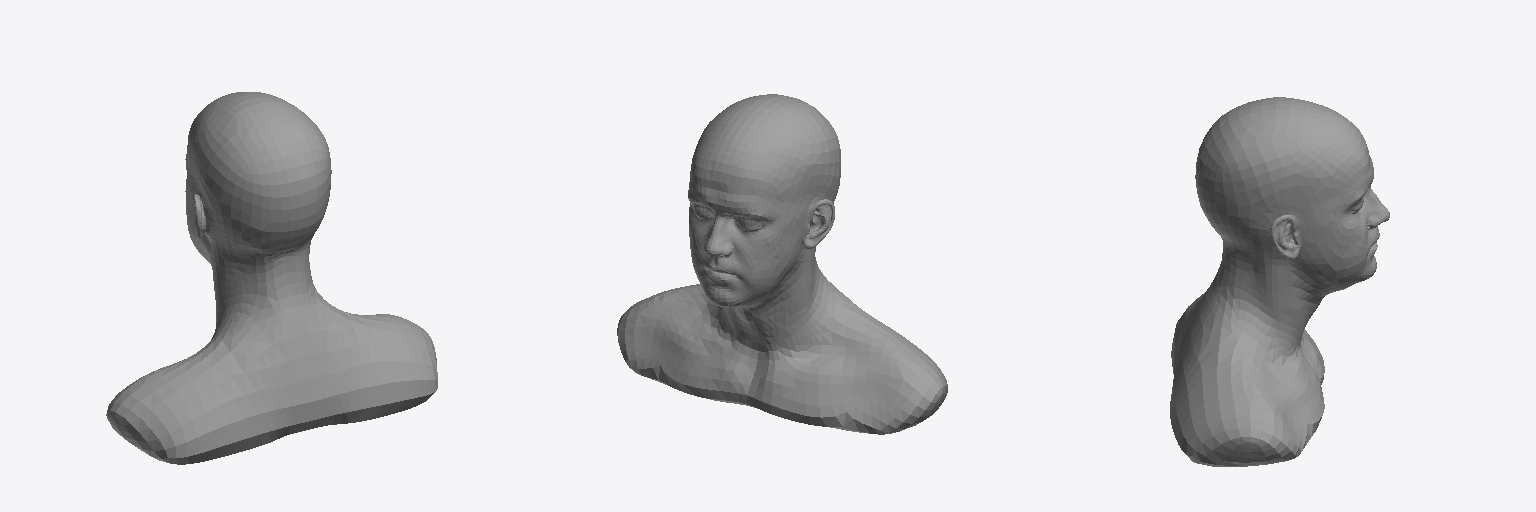
The model's file is lee-perry-smith-head.obj.
3 views of the same model, side by side, from view 1: azimuth 30°, elevation 25°; view 2: azimuth 150°, elevation 25°; view 3: azimuth 270°, elevation 25° (orthographic).
Parts seen in each view (by area): view 1: Group28; view 2: Group28; view 3: Group28.
Boxes of the visible parts, x1,y1,x2,y2 form: Group28: [106, 92, 437, 464]; Group28: [617, 94, 947, 434]; Group28: [1170, 97, 1389, 466].
Size of the model in its own units: 2.27 by 2.11 by 1.37.